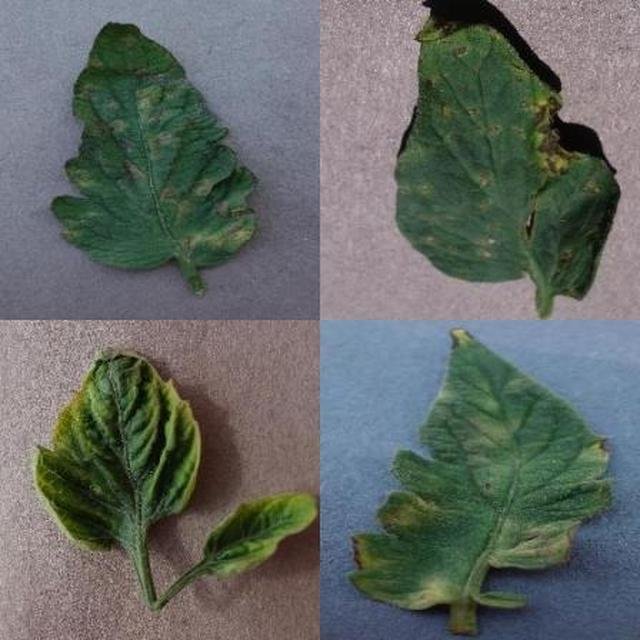Leaf Mold: (168, 127, 640, 640)
